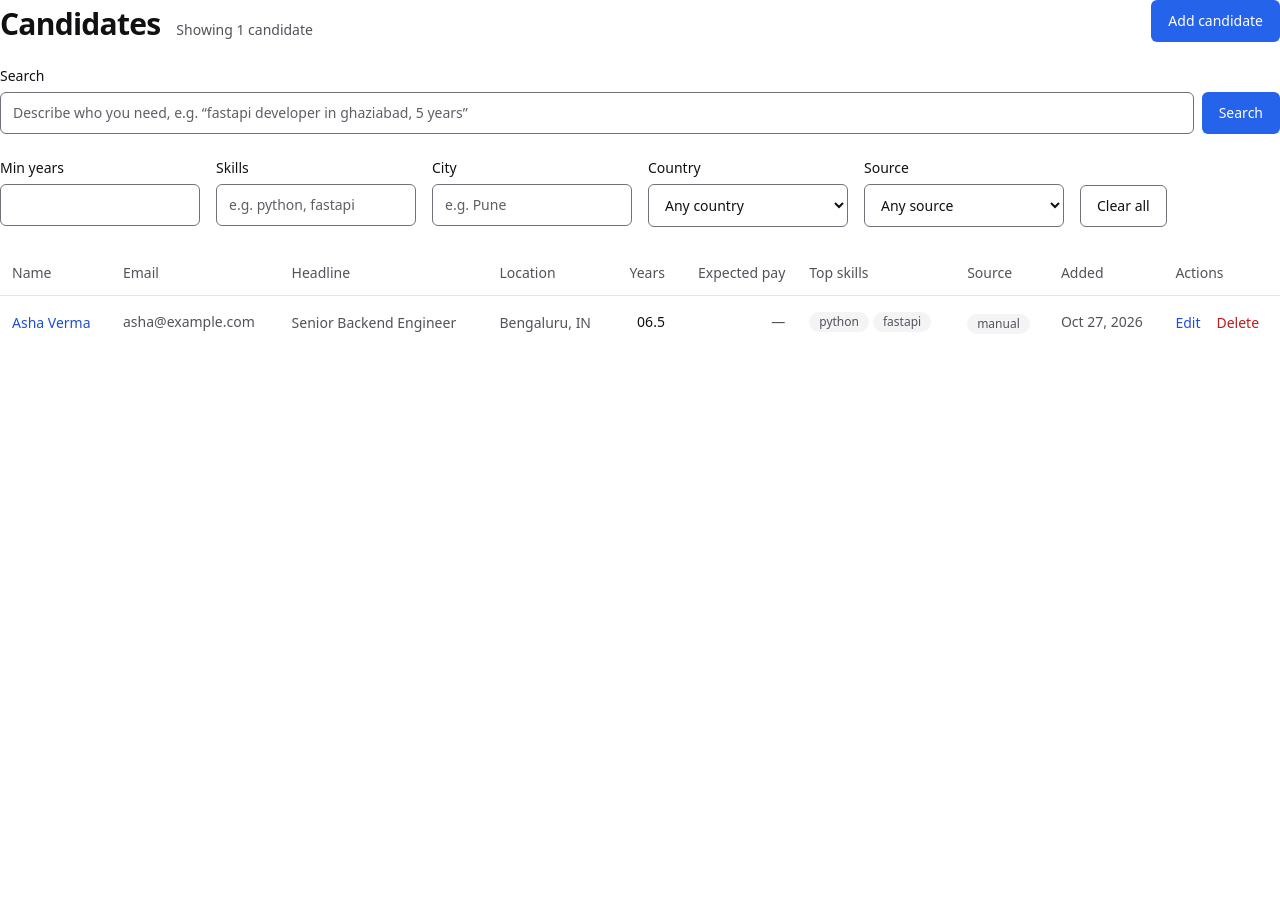
Test: CandidateSearchPage › lets an admin delete a row after confirming
The width and height of the screenshot is (1280, 900).
Click the button with aria-label "Delete Asha Verma": point(1238, 322) [1216, 312, 1259, 333]
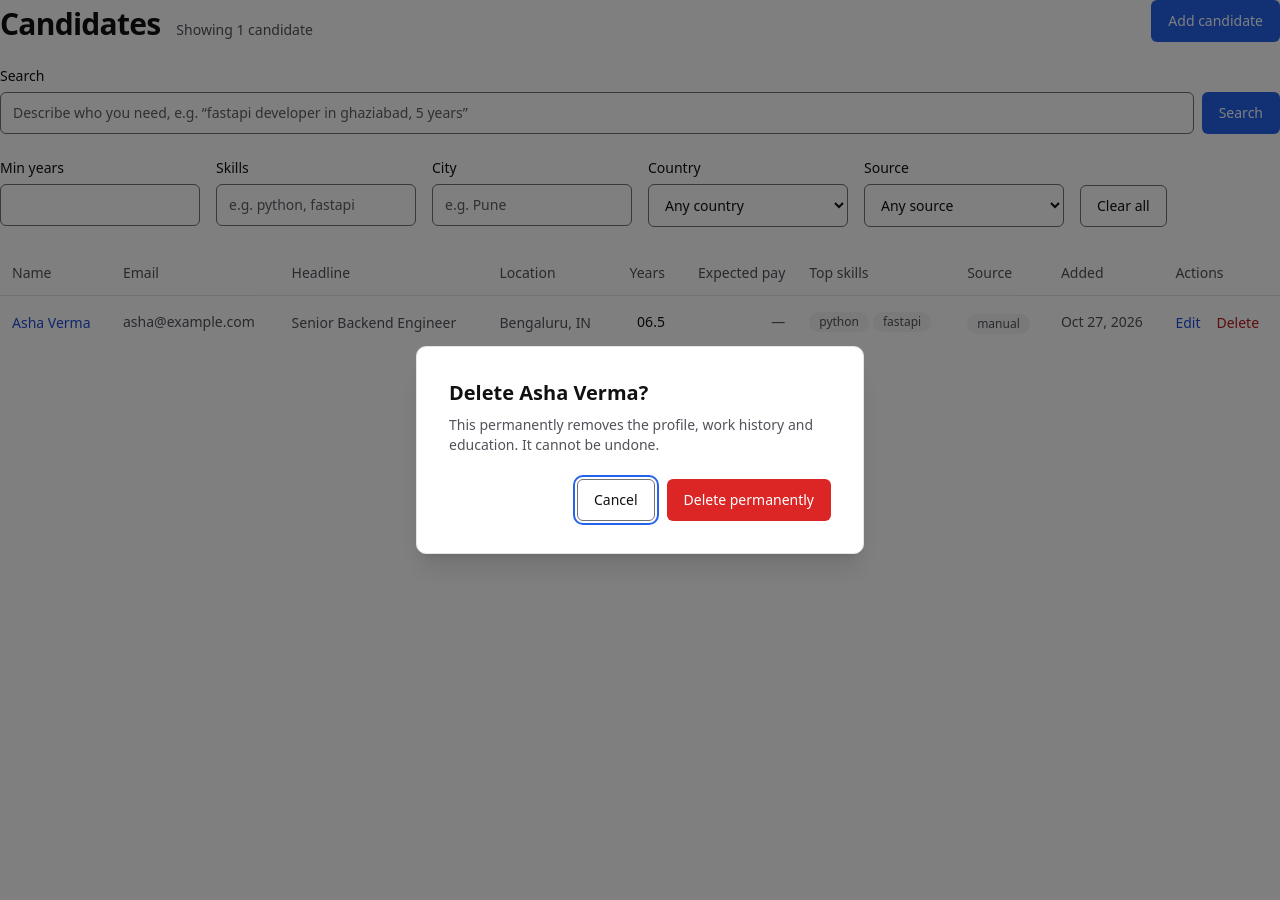
Click the button "Delete permanently": point(749, 500) [666, 479, 831, 521]
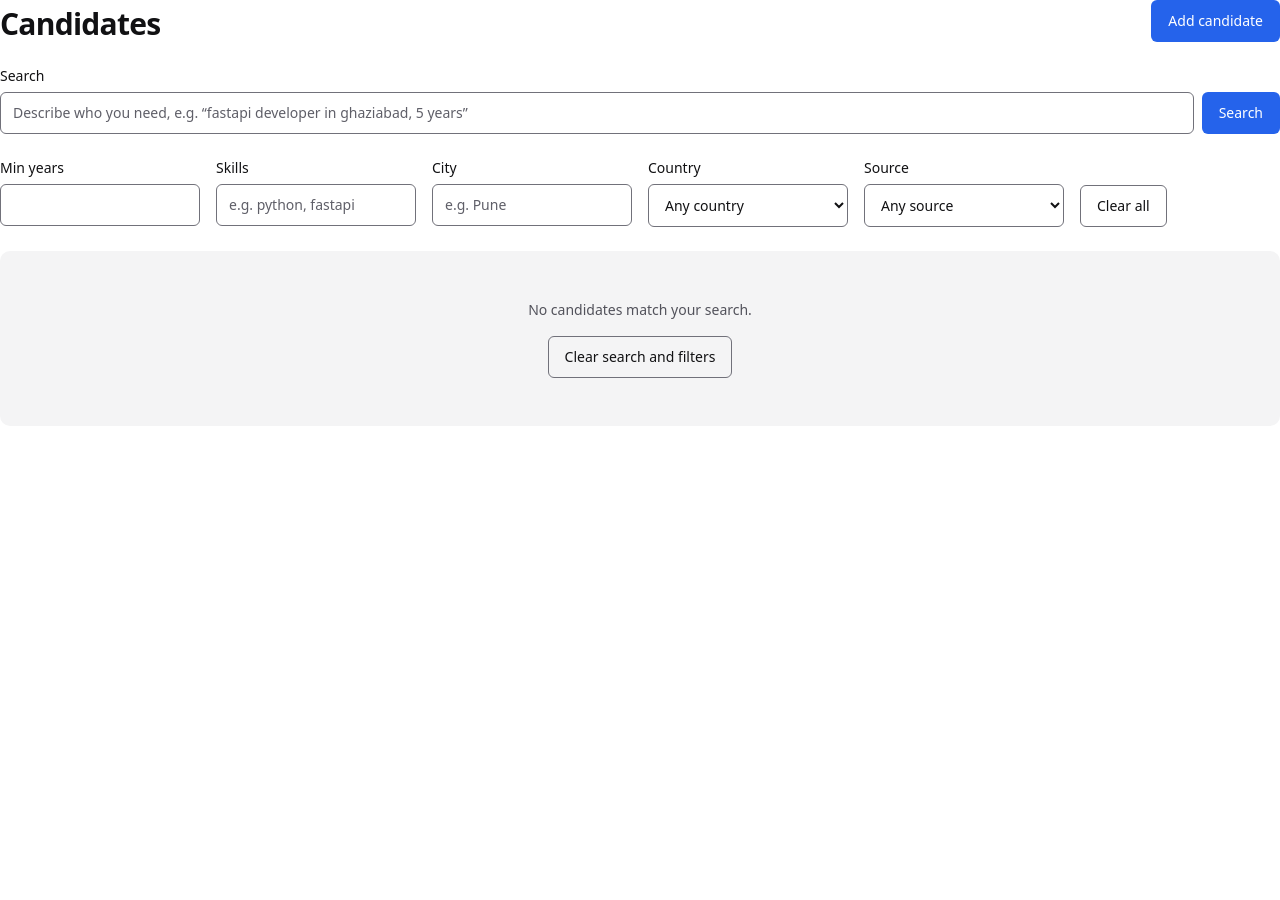
Expected: the text "No candidates match your search." is shown, [528, 300, 752, 319]
